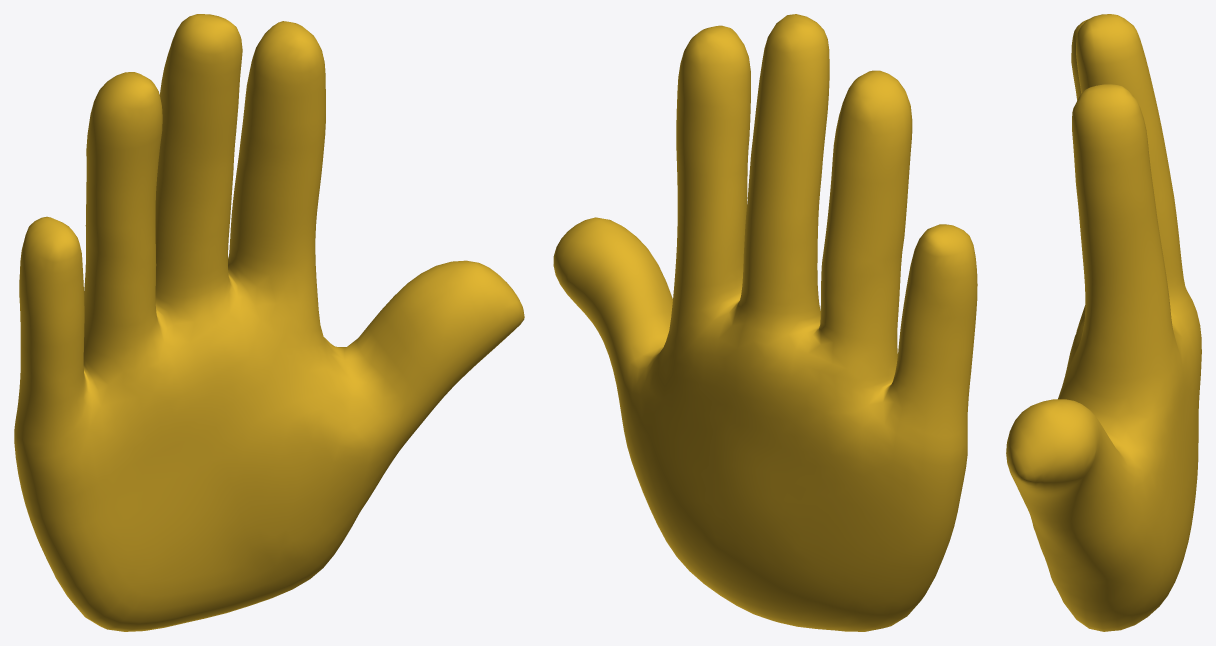
The model's file is STOP.glb.
3 views of the same model, side by side, from view 1: azimuth 30°, elevation 25°; view 2: azimuth 150°, elevation 25°; view 3: azimuth 270°, elevation 25° (orthographic). The views are drawn at different scales.
Parts seen in each view (by area): view 1: HAND; view 2: HAND; view 3: HAND.
Boxes of the visible parts, bbox=[...] form: HAND: bbox=[14, 14, 524, 631]; HAND: bbox=[553, 14, 977, 631]; HAND: bbox=[1006, 14, 1201, 631].
Bounding box in the file's own units: 0.3141 × 0.3969 × 0.1193.
